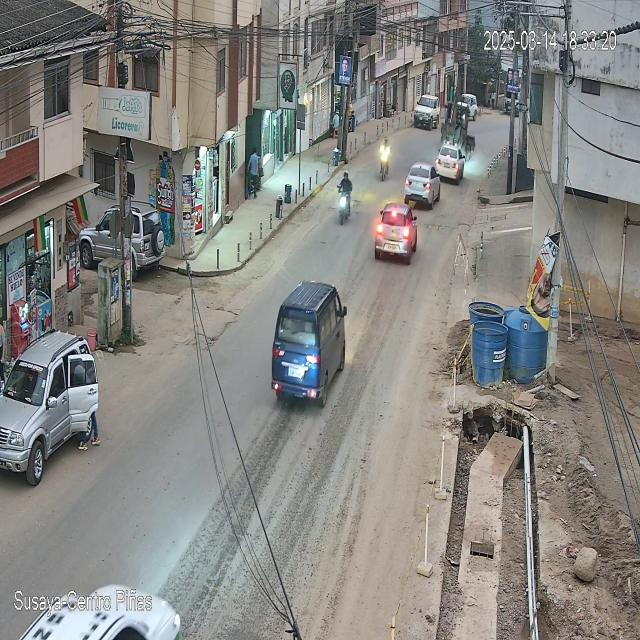BUS: (272, 282, 344, 404)
SED: (375, 202, 418, 266)
